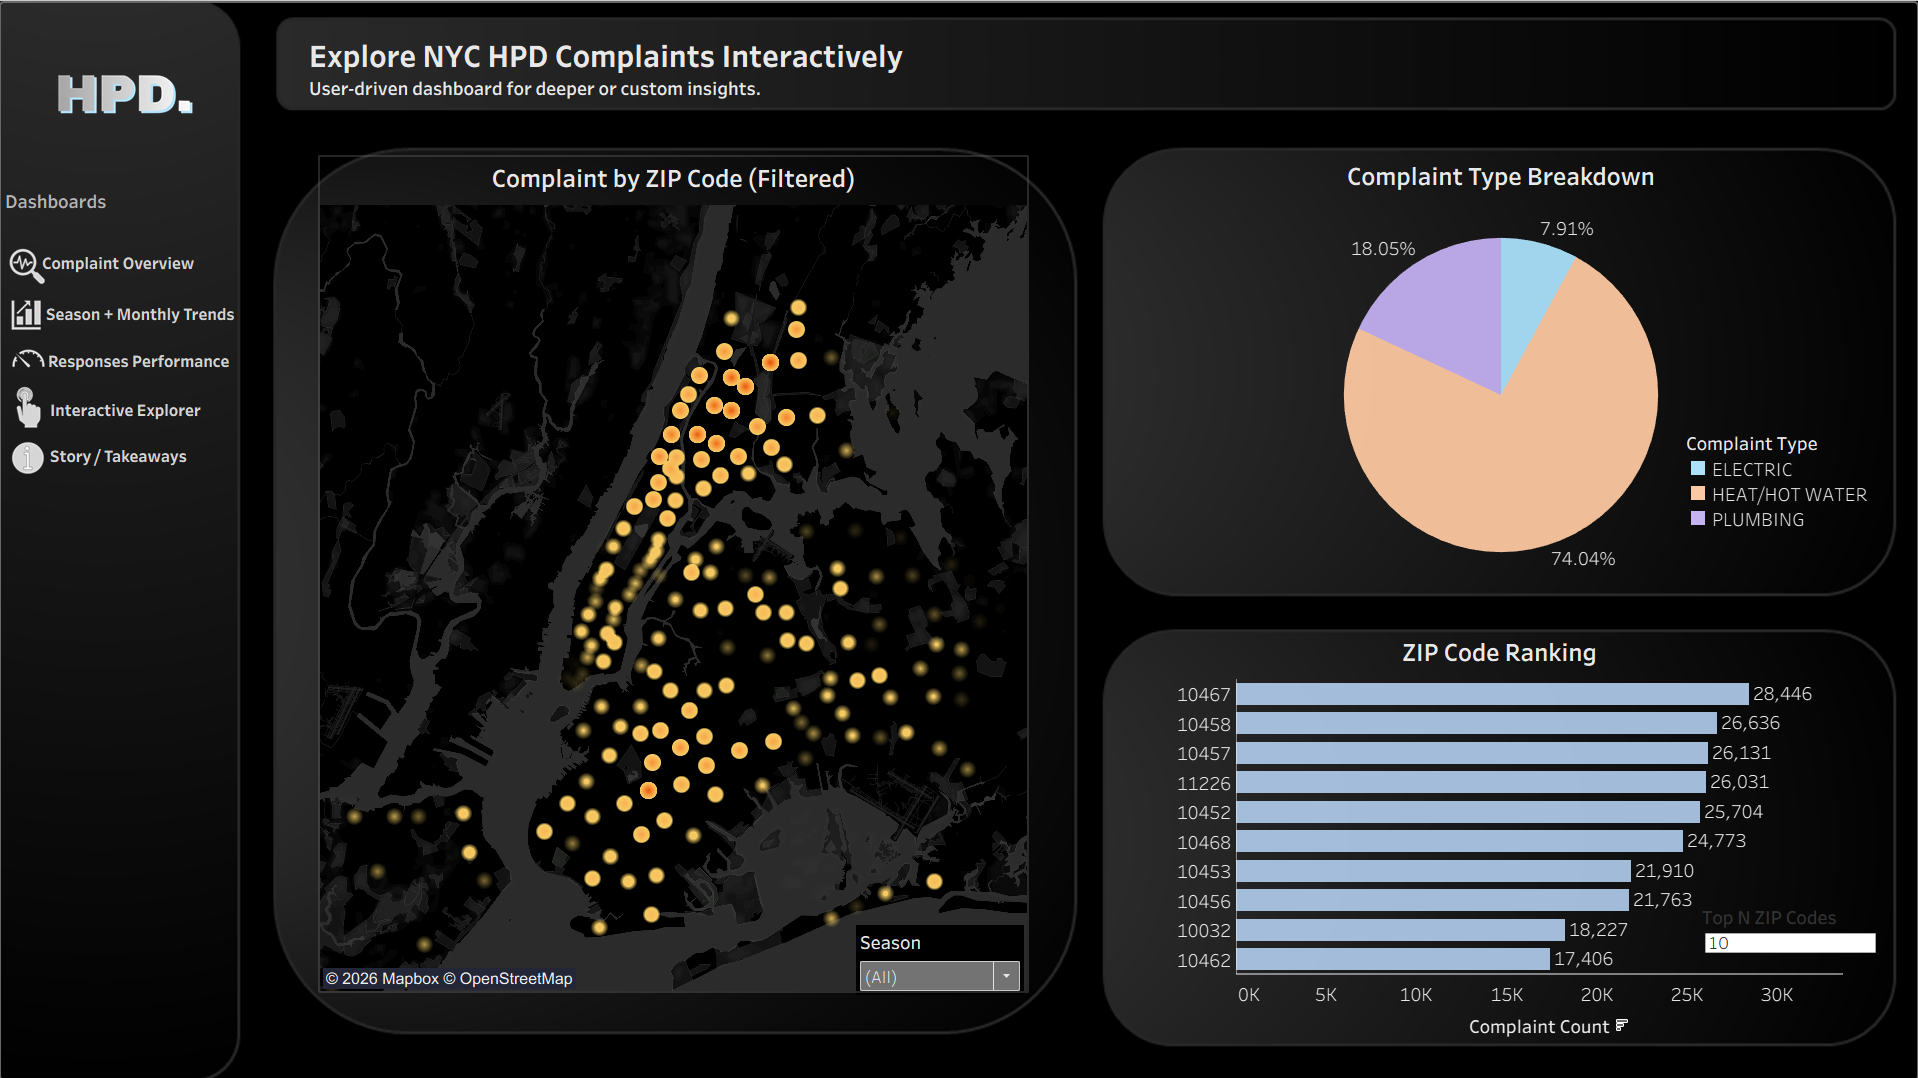

This screenshot's page, from the dashboard's own definition file:
{"tool":"tableau","page":{"name":"Dashboard 4","canvas":[1920,1080],"ordinal":3},"visuals":[{"type":"image","param":"C:/Users/nelso/OneDrive/Desktop/DPD Dash 4 revised.png","box":[0,0,1920,1080]},{"type":"image","param":"C:/Users/nelso/AppData/Local/Temp/TableauTemp/0lfkazb0qi0guh1554uku0vzvky3/Sheet","box":[10,10,230,173]},{"type":"text","box":[306,19,840,95]},{"type":"worksheet","title":"D4-P Complint Type Breakdown","mark":"Pie","box":[1149,154,706,432]},{"type":"worksheet","title":"D4-Map","mark":"Heatmap","rows":["Latitude"],"cols":["Longitude"],"box":[321,156,707,834]},{"type":"text","box":[2,185,110,30]},{"type":"dashboard-object","box":[9,250,221,25]},{"type":"dashboard-object","box":[27,293,228,40]},{"type":"dashboard-object","box":[16,336,249,48]},{"type":"dashboard-object","box":[31,383,190,52]},{"type":"dashboard-object","box":[37,429,164,52]},{"type":"legend","title":"D4-P Complint Type Breakdown","param":"[federated.1kdeqq41o98p49128sxix1qtlnvn].[none:Complaint Type:nk]","box":[1687,429,187,101]},{"type":"worksheet","title":"D4-B- Complaint By Zip","mark":"Bar","rows":["Incident Zip"],"cols":["Calculation_215046898719772681"],"box":[1157,630,687,414]},{"type":"parameter","param":"[Parameters].[Parameter 1]","box":[1703,903,177,59]},{"type":"filter","title":"D4-Map","param":"[federated.1kdeqq41o98p49128sxix1qtlnvn].[none:season:nk]","box":[857,924,168,70]}]}

Visuals, with their boxes in screenshot pixels (x1, y1, x2, y2), scaled from the page's 1920x1080 canvas onto the 1918x1078 screenshot:
image: box(0, 0, 1917, 1077)
image: box(10, 10, 240, 183)
text: box(306, 19, 1145, 114)
"D4-P Complint Type Breakdown" worksheet (Pie marks): box(1148, 154, 1853, 585)
"D4-Map" worksheet (Heatmap marks): box(321, 156, 1027, 988)
text: box(2, 185, 112, 215)
dashboard-object: box(9, 250, 230, 274)
dashboard-object: box(27, 292, 255, 332)
dashboard-object: box(16, 335, 265, 383)
dashboard-object: box(31, 382, 221, 434)
dashboard-object: box(37, 428, 201, 480)
"D4-P Complint Type Breakdown" legend: box(1685, 428, 1872, 529)
"D4-B- Complaint By Zip" worksheet (Bar marks): box(1156, 629, 1842, 1042)
parameter: box(1701, 901, 1878, 960)
"D4-Map" filter: box(856, 922, 1024, 992)
